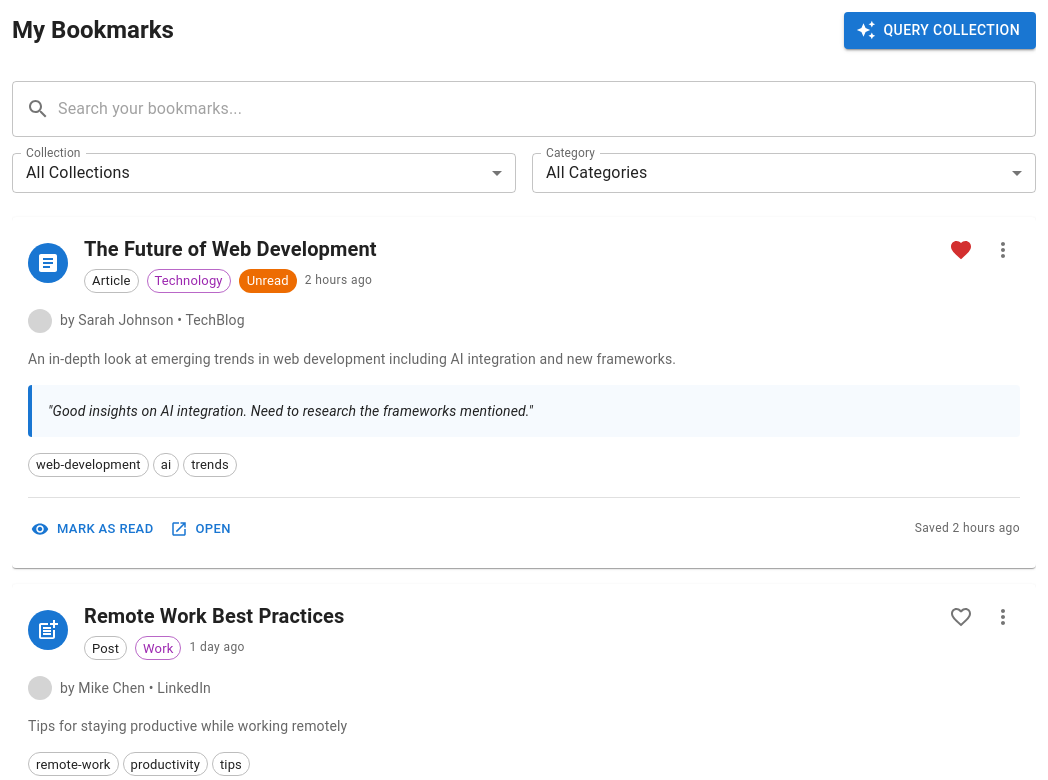
MyCollectionPage › filters by category
The width and height of the screenshot is (1048, 780).
Check: the heading "The Future of Web Development" is shown, box [84,232,377,264]
Press the mouse on the dropdown labelled "All Categories": (597, 172) [546,163,647,182]
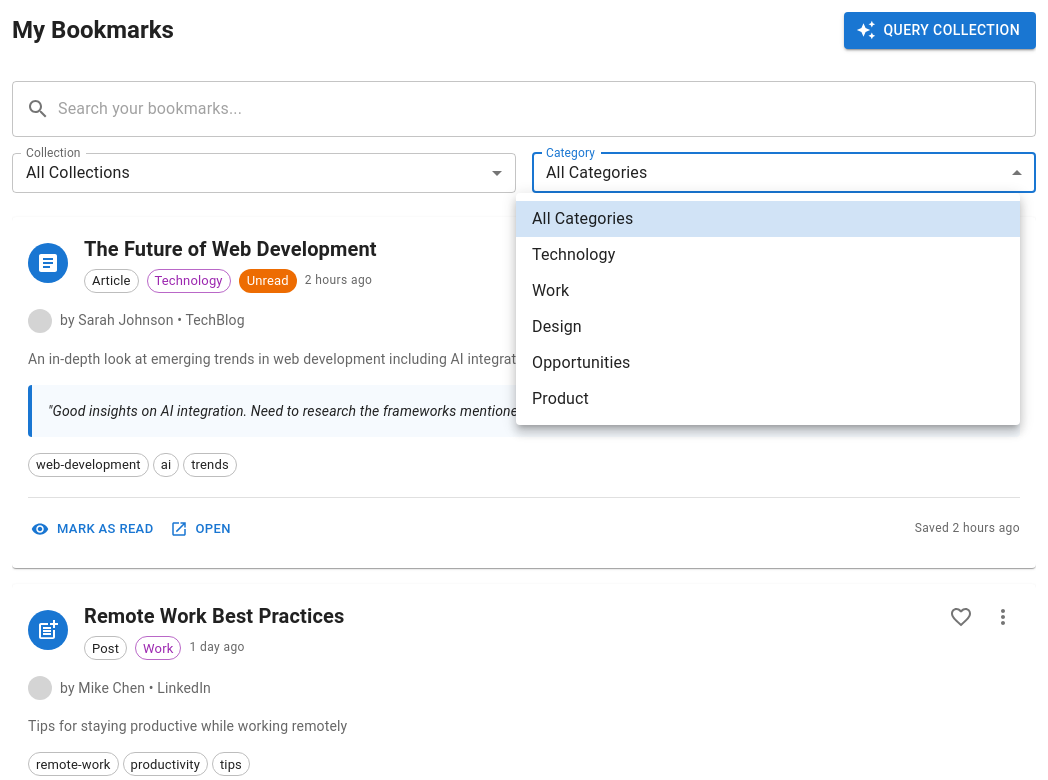
Check: the option "Technology" is shown
Click the option "Technology": (574, 254) [532,245,616,264]
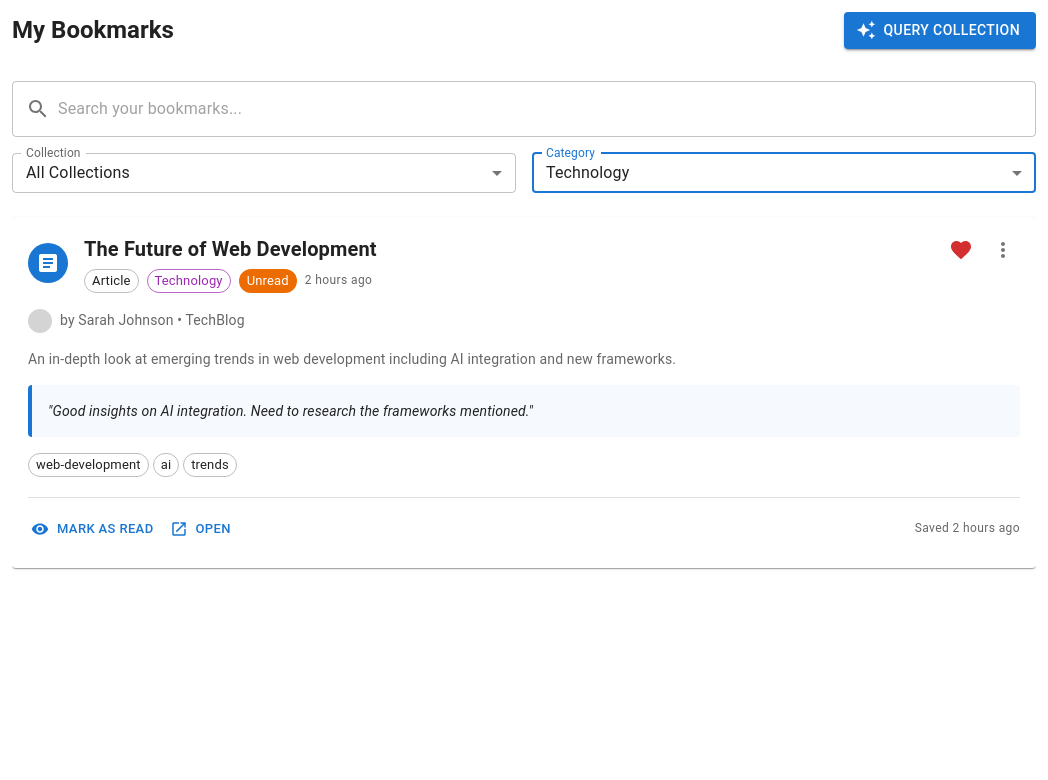
Check: the heading "The Future of Web Development" is shown, box [84,232,377,264]
Check: the heading "Remote Work Best Practices" is gone
